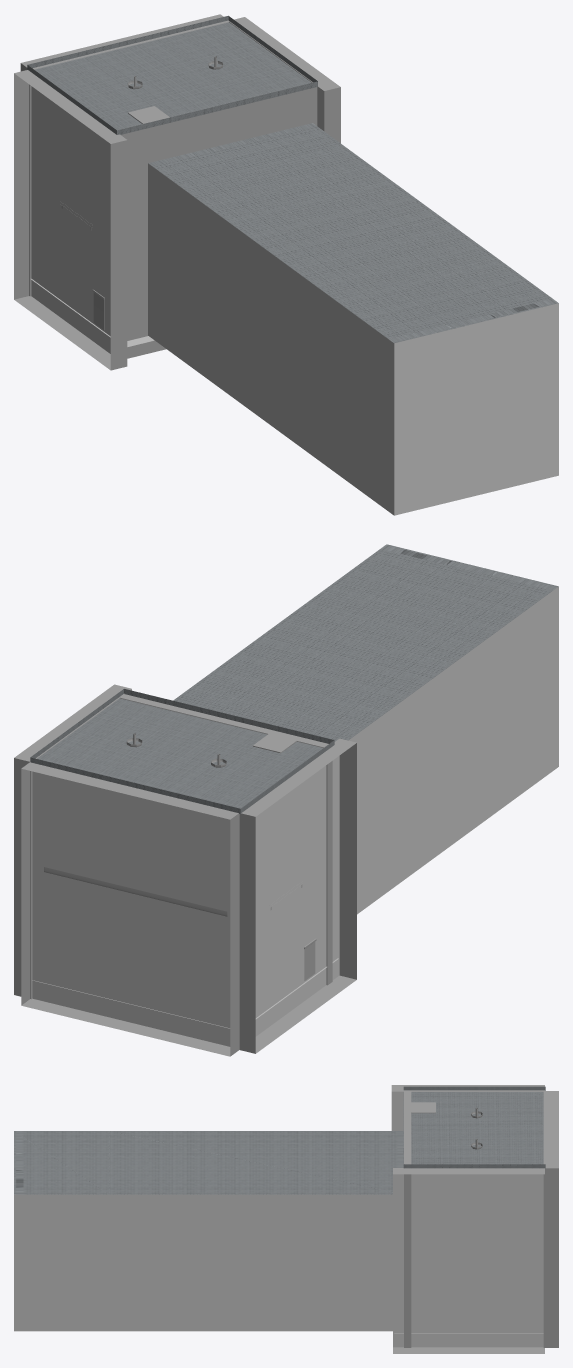
The model's file is full_kitchen_1_28.fbx.
3 renders of one model, top to bottom at view 1: azimuth 30°, elevation 25°; view 2: azimuth 150°, elevation 25°; view 3: azimuth 270°, elevation 25°, orthographic. The views are drawn at different scales.
Visible parts, largest first — view 1: pCube196, pCube6, pCube12, pCube4, pCube5, pCube3; view 2: pCube196, pCube3, pCube6, pCube12, pCube5, pCube4, pCylinder38; view 3: pCube196, pCube5, pCube12, pCube3, pCube4, pCube6.
Part boxes in pixels (x1,y1,x2,y2): pCube196: [148, 123, 558, 515]; pCube6: [14, 70, 127, 370]; pCube12: [27, 15, 317, 134]; pCube4: [121, 87, 317, 358]; pCube5: [229, 17, 340, 143]; pCube3: [20, 14, 228, 296]; pCube196: [173, 544, 558, 914]; pCube3: [21, 762, 239, 1056]; pCube6: [239, 738, 356, 1053]; pCube12: [30, 689, 334, 814]; pCube5: [14, 684, 131, 999]; pCube4: [119, 694, 332, 985]; pCylinder38: [44, 867, 227, 916]; pCube196: [14, 1131, 403, 1331]; pCube5: [393, 1168, 544, 1353]; pCube12: [403, 1086, 545, 1168]; pCube3: [543, 1091, 558, 1347]; pCube4: [404, 1091, 411, 1347]; pCube6: [391, 1085, 544, 1130].
Size of the model in its own units: 4.23 by 4.12 by 10.9.
